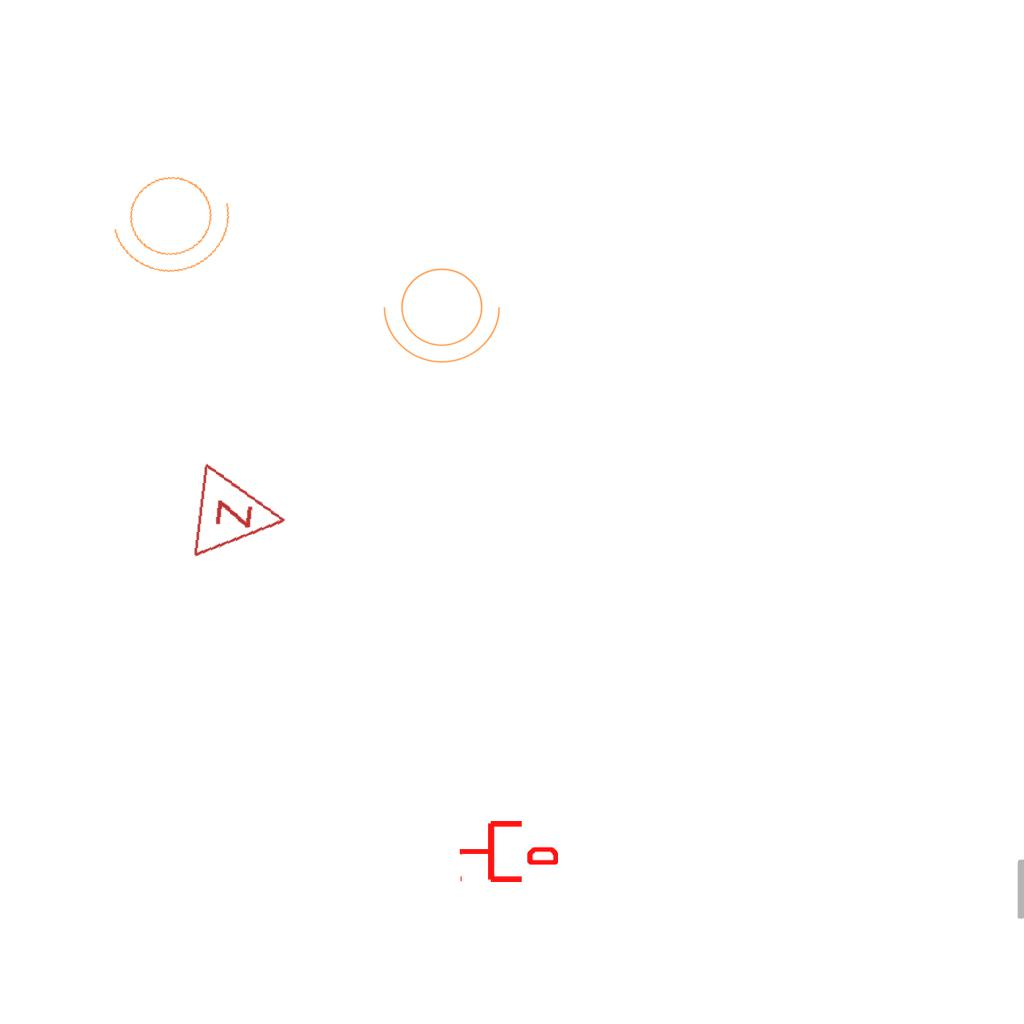Datenanschluss_einfach: (458, 817, 558, 886)
Scheinwerfer_fuer_Alarmbeleuchtung: (98, 150, 252, 290), (379, 256, 511, 368)
Zimmersignalleuchte: (186, 459, 298, 569)
